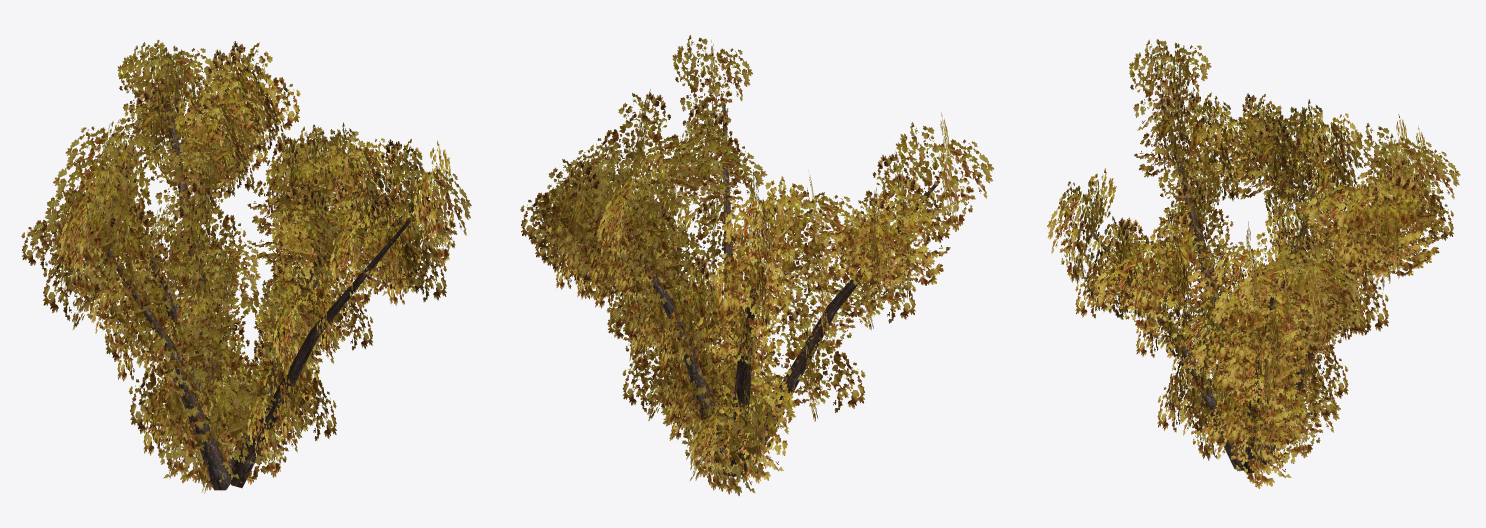
The model's file is bush_3d_03_yellow_lod1.glb.
The picture shows the model from 3 angles, left to right: view 1: azimuth 30°, elevation 25°; view 2: azimuth 150°, elevation 25°; view 3: azimuth 270°, elevation 25°; orthographic projection. The views are drawn at different scales.
Parts seen in each view (by area): view 1: foliage_cards, wood_geometry; view 2: foliage_cards, wood_geometry; view 3: foliage_cards, wood_geometry.
Part boxes in pixels (<box>): foliage_cards: <box>21,39,471,493</box>; wood_geometry: <box>106,78,410,490</box>; foliage_cards: <box>520,35,993,495</box>; wood_geometry: <box>622,103,939,476</box>; foliage_cards: <box>1047,39,1460,488</box>; wood_geometry: <box>1089,98,1418,473</box>.
Size of the model in its own units: 2.39 by 2.08 by 2.25.
2 materials, 2 textured.
